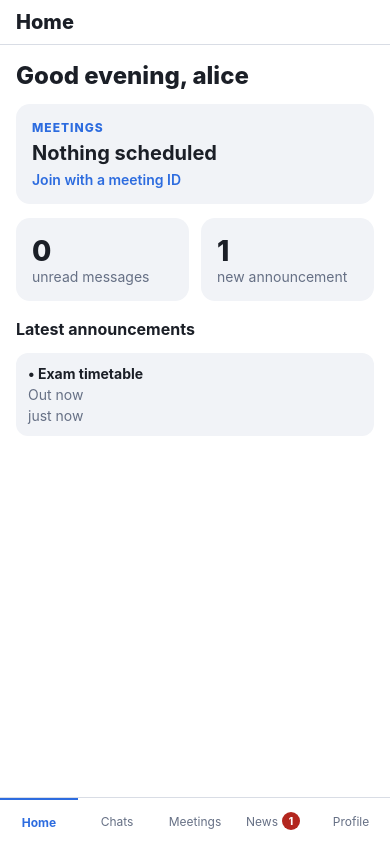
Test case: home › shows unread counts and the latest announcements; tiles open the right tab
Check: the text "Good evening, alice" is shown, box left=16, top=61, right=249, bottom=90
Check: the text "• Exam timetable" is shown, box left=28, top=365, right=143, bottom=382
Click the element named "open announcements" at (288, 260), box left=201, top=218, right=374, bottom=301
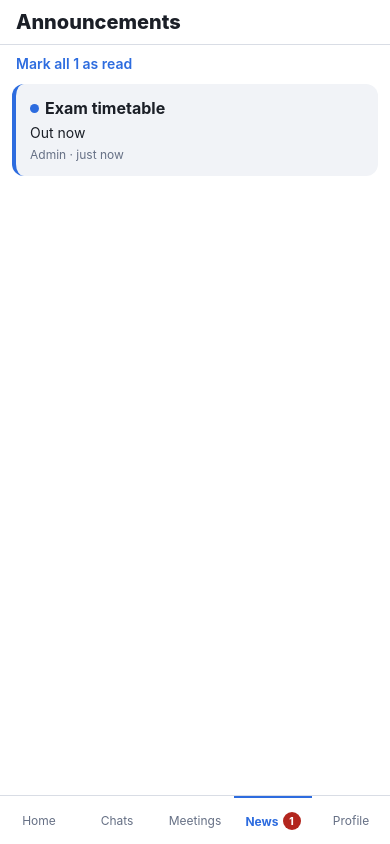
Check: the element named "announcement Exam timetable" is shown, box left=12, top=84, right=378, bottom=176
